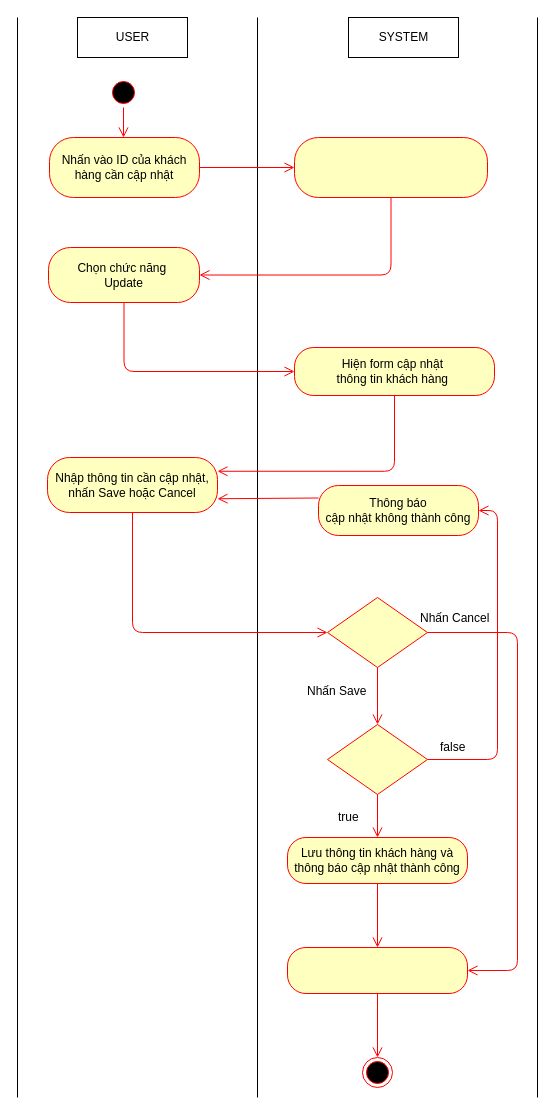
Some shapes in this 556 by 1116 pixel diagram are drawn without their labels. The shapes that lost their labels are listed below. From the top down, each one's centre as x and y in pixels, then its label:
At pixel 391 167: "Hiện form thông tin khách hàng".
At pixel 377 632: "Kiểm tra loại thao tác".
At pixel 377 759: "Kiểm tra ràng buộc".
At pixel 377 970: "Hiển thị trang giao diện quản lý thông tin khách hàng".
